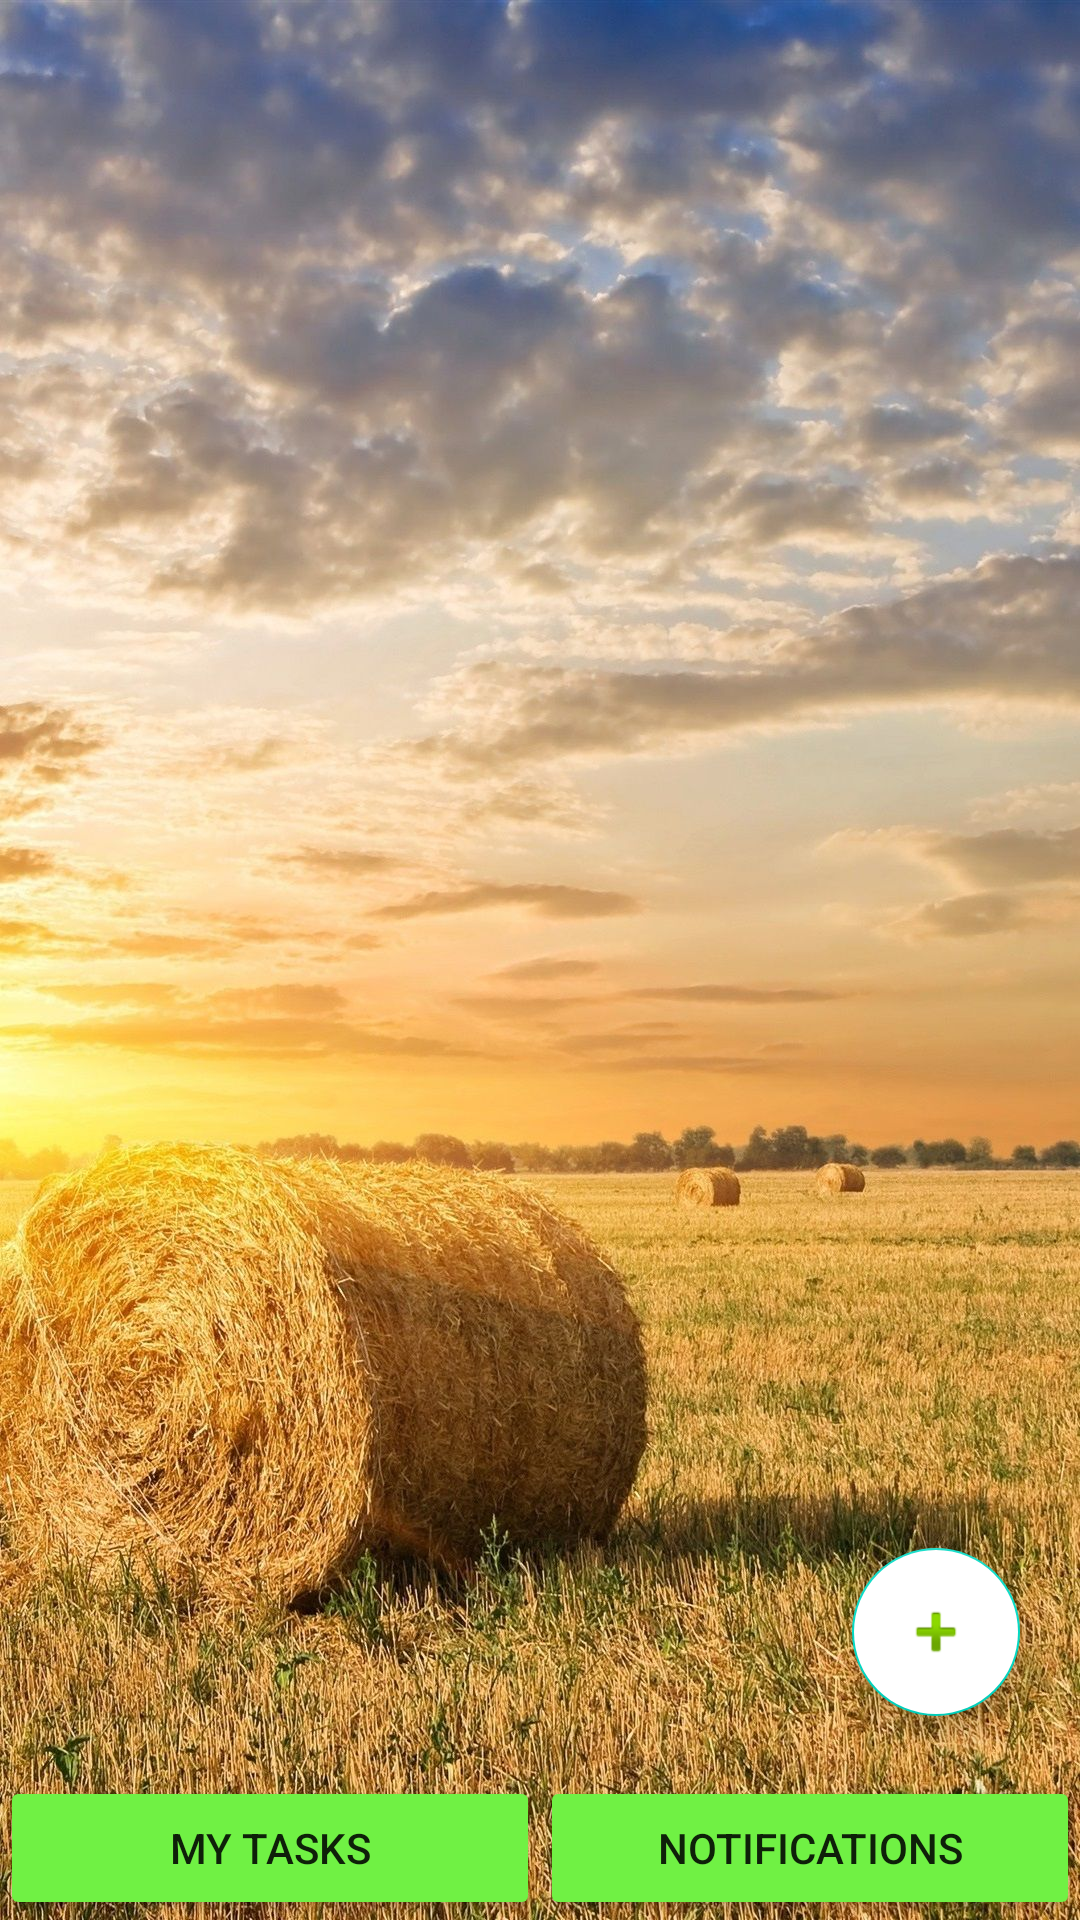

Screen size 1080 x 1920. Icon name, then its center in pixels as (x=x, y=y):
add: (x=936, y=1632)
